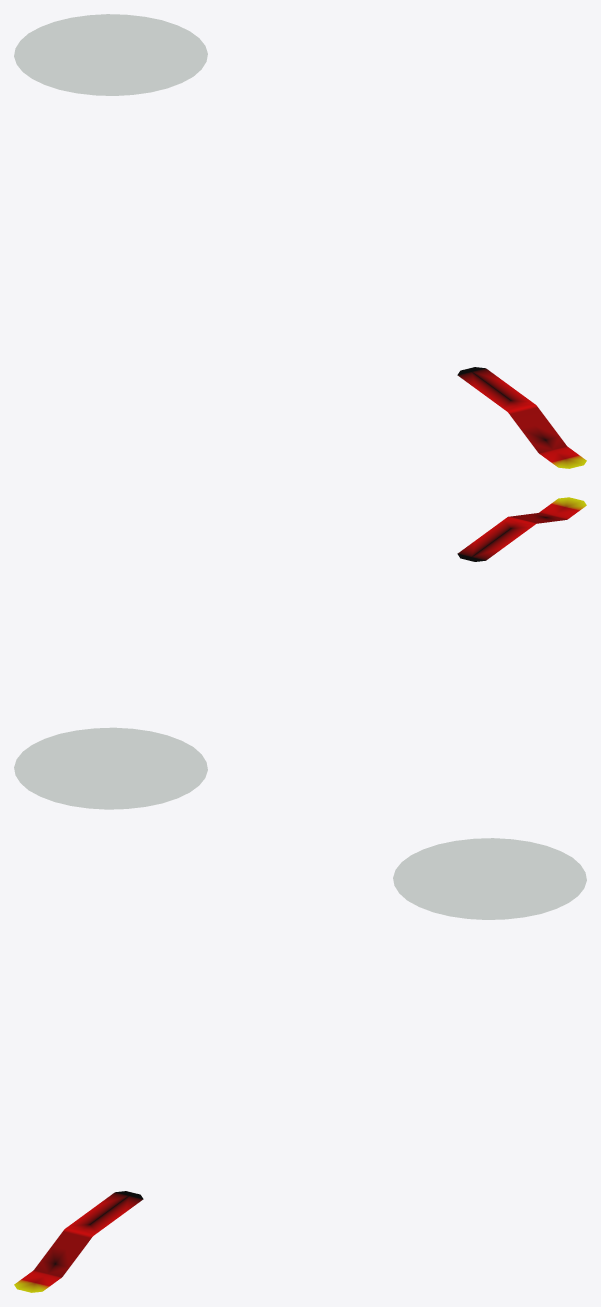
3 renders of one model, top to bottom at view 1: azimuth 30°, elevation 25°; view 2: azimuth 150°, elevation 25°; view 3: azimuth 330°, elevation 25°, orthographic.
Visible parts, largest first — view 1: G:\FFXIV-MapTools\exports\r2t2\bg\ex1\01_roc_r2\twn\common\b (×2); view 2: G:\FFXIV-MapTools\exports\r2t2\bg\ex1\01_roc_r2\twn\common\b (×2); view 3: G:\FFXIV-MapTools\exports\r2t2\bg\ex1\01_roc_r2\twn\common\b (×2).
Boxes of the visible parts, x1=… form: G:\FFXIV-MapTools\exports\r2t2\bg\ex1\01_roc_r2\twn\common\b (×2): x1=14, y1=14, x2=586, y2=468; G:\FFXIV-MapTools\exports\r2t2\bg\ex1\01_roc_r2\twn\common\b (×2): x1=14, y1=497, x2=586, y2=809; G:\FFXIV-MapTools\exports\r2t2\bg\ex1\01_roc_r2\twn\common\b (×2): x1=14, y1=838, x2=586, y2=1292.
Bounding box in the file's own units: 37.61 × 15.3 × 200.
